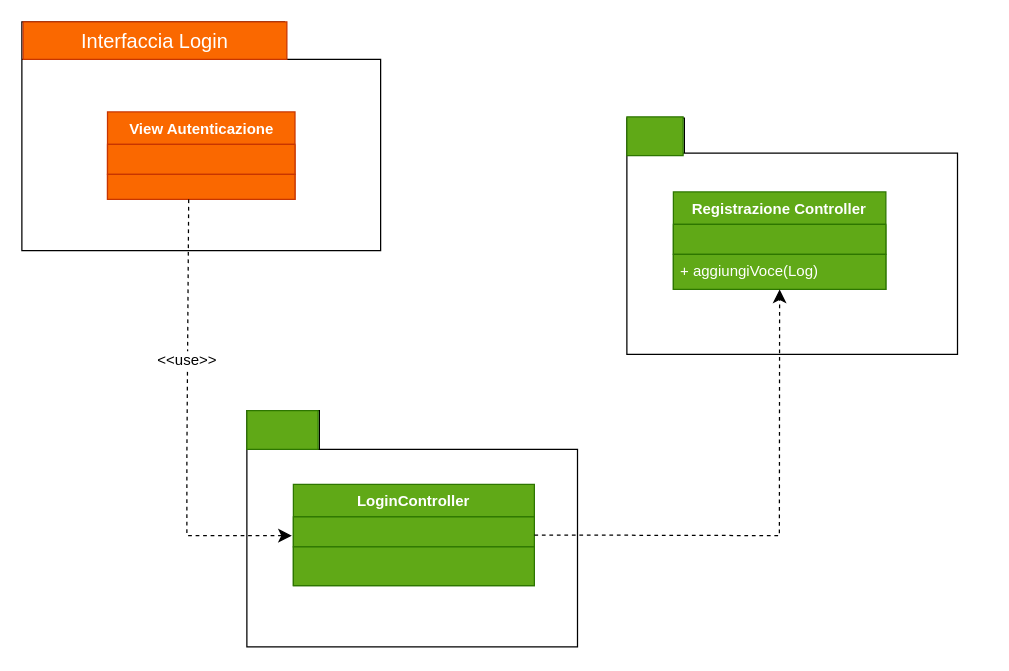
Some shapes in this 1009 by 671 pixel diagram are drawn without their labels. Here are the shapes that lost their labels. From the top down, the centre of each, then its label:
the point at 654,136: Log
the point at 282,429: Login
the point at 413,566: + autentica(Username, Password)
